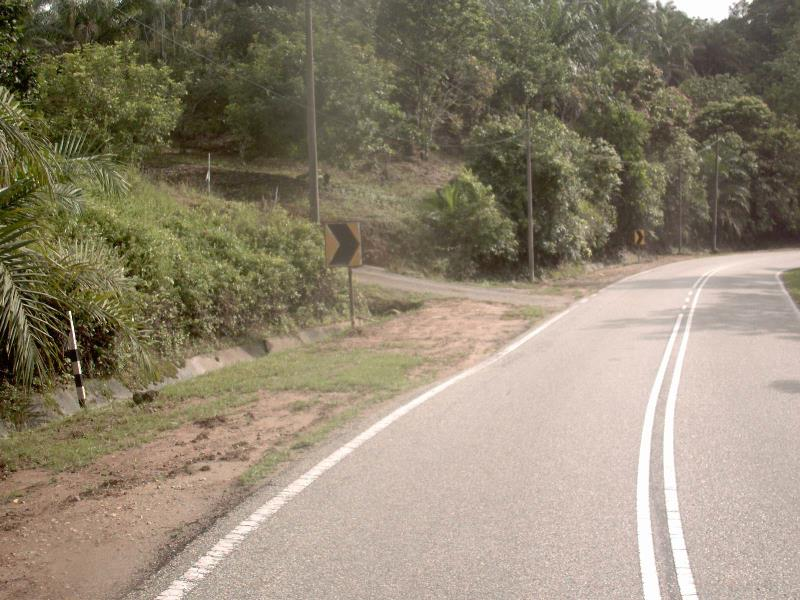traffic_sign: (314, 211, 374, 281)
